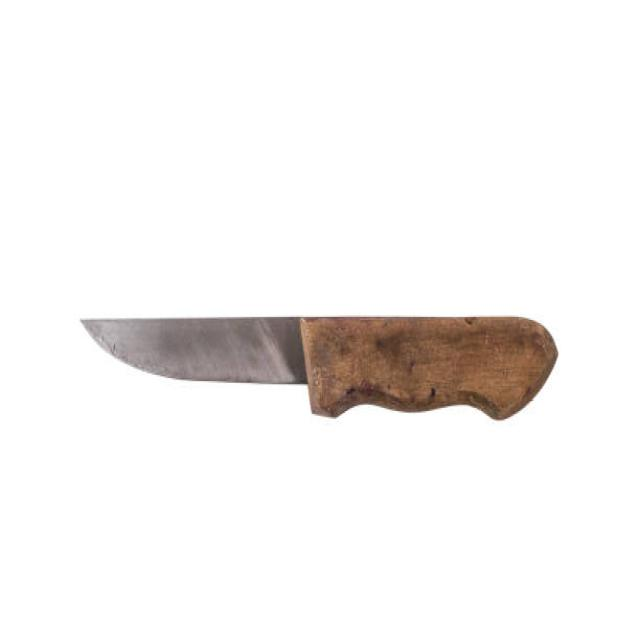knife: (73, 306, 565, 433)
